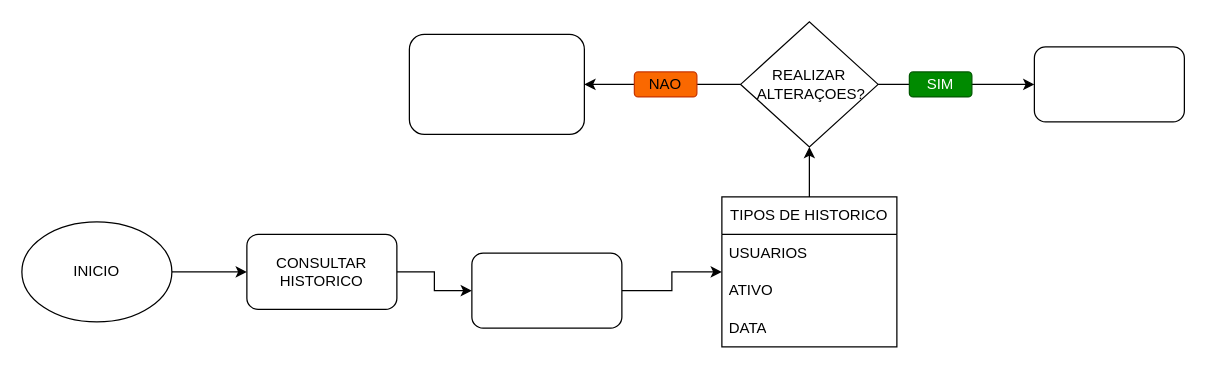
Some shapes in this 1206 by 369 pixel diagram are drawn without their labels. Here are the shapes that lost their labels. From the top down, the box of each, then its label:
(408, 33, 584, 134): ALERTA INFORMANDO QUE NAO TEM MOVIMENTAÇOES
(1033, 46, 1184, 122): EXIBIR OS DATOS RETOMADOS
(471, 252, 622, 328): LISTA DE MOVIMENTAÇAO
